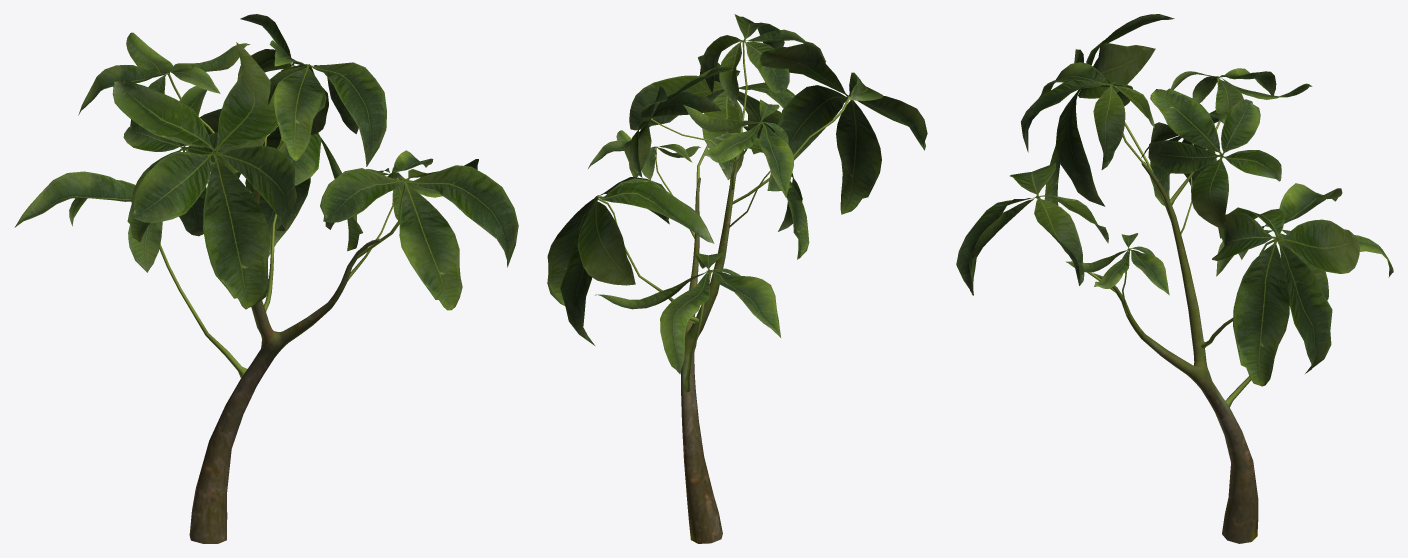
Rendered from pachira_aquatica_01_02.glb.
The picture shows the model from 3 angles, left to right: view 1: azimuth 30°, elevation 25°; view 2: azimuth 150°, elevation 25°; view 3: azimuth 270°, elevation 25°; orthographic projection. The views are drawn at different scales.
Visible parts, largest first — view 1: pachira_aquatica_01_leaves, pachira_aquatica_01_bark; view 2: pachira_aquatica_01_leaves, pachira_aquatica_01_bark; view 3: pachira_aquatica_01_leaves, pachira_aquatica_01_bark.
Part boxes in pixels (<box>): pachira_aquatica_01_leaves: <box>14,14,518,377</box>; pachira_aquatica_01_bark: <box>189,189,380,543</box>; pachira_aquatica_01_leaves: <box>547,14,927,392</box>; pachira_aquatica_01_bark: <box>681,154,739,543</box>; pachira_aquatica_01_leaves: <box>956,14,1393,407</box>; pachira_aquatica_01_bark: <box>1093,161,1258,543</box>.
Size of the model in its own units: 0.5031 by 0.735 by 0.6074.
Materials: 2 (2 with a texture image).
